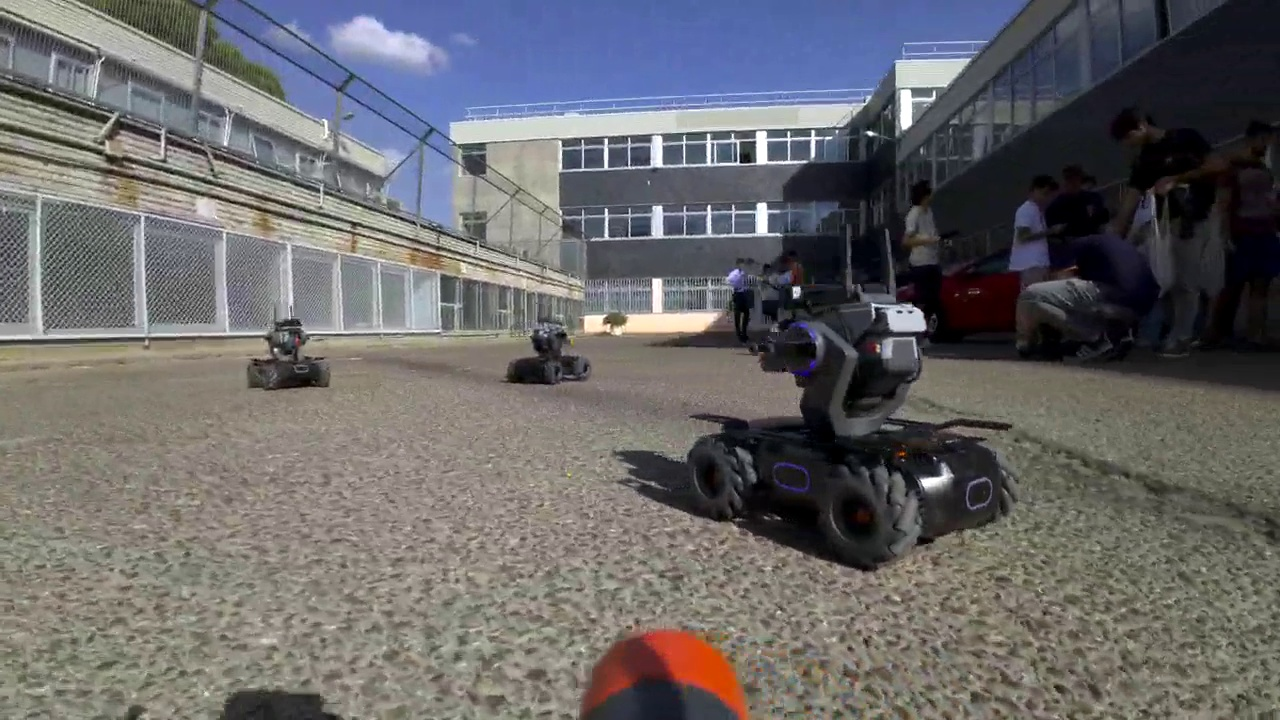robot: (685, 224, 1023, 570), (240, 304, 330, 392), (505, 309, 592, 387)
